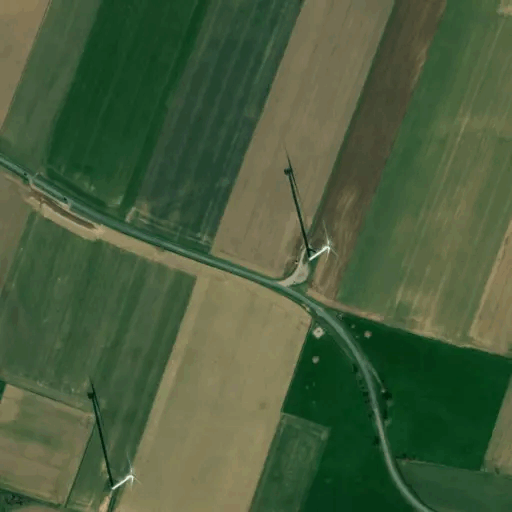wt: (271, 133, 345, 278), (80, 372, 141, 501)
